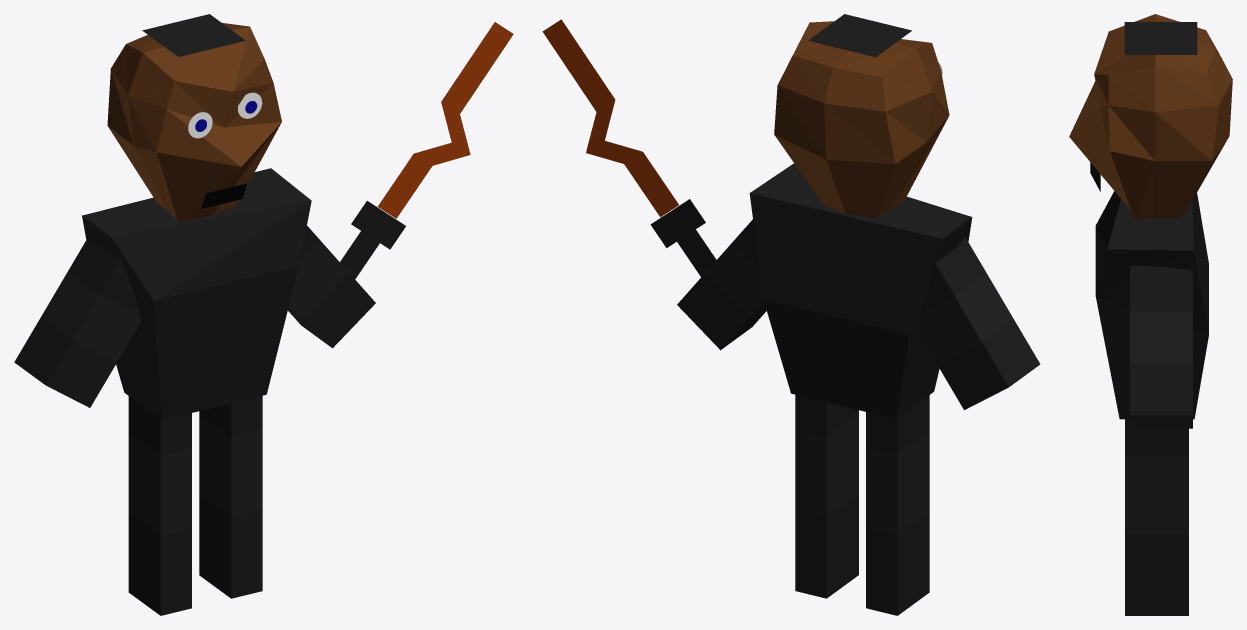
Rendered from swordsman1.obj.
3 views of the same model, side by side, from view 1: azimuth 30°, elevation 25°; view 2: azimuth 150°, elevation 25°; view 3: azimuth 270°, elevation 25° (orthographic).
Visible parts, largest first — view 1: Cube.001, Cube, Cube.004, Cube.005, Cube.003, Cube.002, Plane.003_Plane.004, Plane.004_Plane.001, Plane.002_Plane.003, Plane.001_Plane.002; view 2: Cube.001, Cube, Cube.004, Cube.005, Cube.003, Cube.002, Plane.003_Plane.004, Plane.004_Plane.001, Plane.002_Plane.003, Plane.001_Plane.002; view 3: Cube, Cube.005, Cube.001, Cube.002, Plane.004_Plane.001.
Part boxes in pixels (left/top/right/bottom): Cube.001: left=82, top=168, right=311, bottom=419; Cube: left=107, top=23, right=281, bottom=220; Cube.004: left=128, top=396, right=191, bottom=615; Cube.005: left=199, top=395, right=262, bottom=598; Cube.003: left=14, top=238, right=140, bottom=407; Cube.002: left=288, top=226, right=375, bottom=348; Plane.003_Plane.004: left=377, top=22, right=513, bottom=218; Plane.004_Plane.001: left=142, top=14, right=245, bottom=56; Plane.002_Plane.003: left=351, top=201, right=405, bottom=249; Plane.001_Plane.002: left=340, top=227, right=382, bottom=279; Cube.001: left=749, top=163, right=972, bottom=419; Cube: left=774, top=21, right=949, bottom=217; Cube.004: left=866, top=395, right=929, bottom=615; Cube.005: left=795, top=394, right=858, bottom=598; Cube.003: left=916, top=237, right=1040, bottom=410; Cube.002: left=677, top=219, right=766, bottom=350; Plane.003_Plane.004: left=542, top=19, right=678, bottom=216; Plane.004_Plane.001: left=808, top=14, right=911, bottom=57; Plane.002_Plane.003: left=650, top=199, right=705, bottom=247; Plane.001_Plane.002: left=674, top=226, right=716, bottom=276; Cube: left=1069, top=14, right=1232, bottom=219; Cube.005: left=1125, top=419, right=1188, bottom=615; Cube.001: left=1095, top=191, right=1208, bottom=419; Cube.002: left=1130, top=265, right=1192, bottom=428; Plane.004_Plane.001: left=1124, top=22, right=1197, bottom=54.
Bounding box in the file's own units: 5.33 × 5.87 × 1.57.
